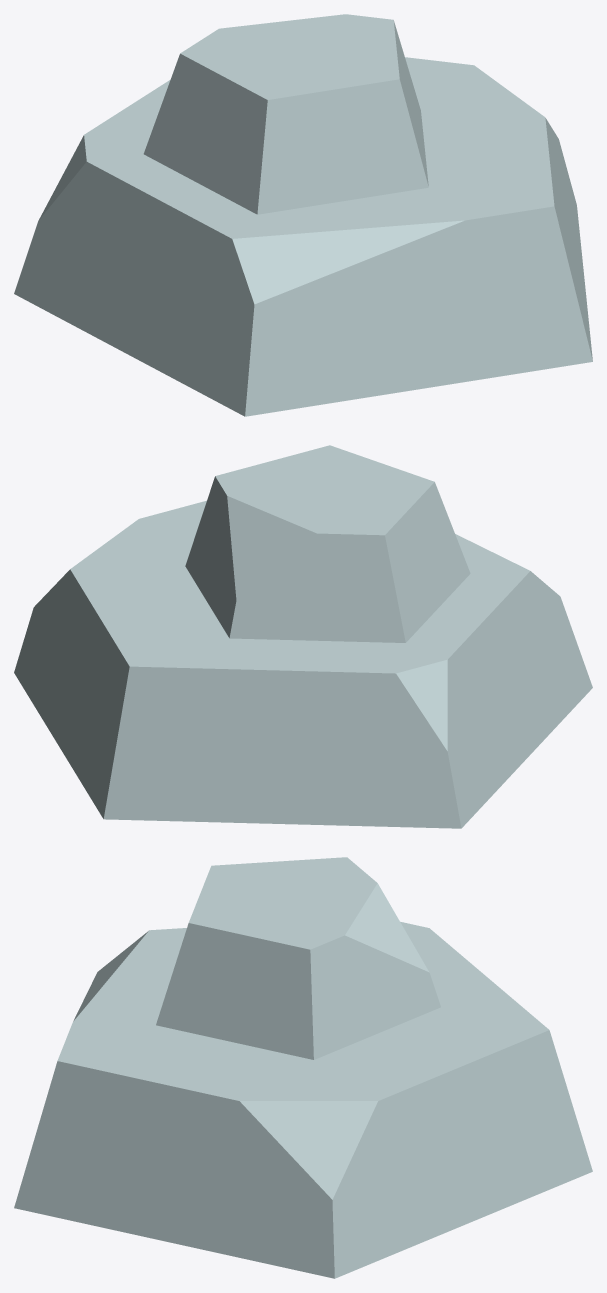
The model's file is stone_smallTopA.gltf.
3 views of the same model, one above another, from view 1: azimuth 30°, elevation 25°; view 2: azimuth 150°, elevation 25°; view 3: azimuth 270°, elevation 25° (orthographic). The views are drawn at different scales.
Parts seen in each view (by area): view 1: stone_smallTopA; view 2: stone_smallTopA; view 3: stone_smallTopA.
Boxes of the visible parts, left/top/right/bottom form: stone_smallTopA: left=14, top=14, right=592, bottom=416; stone_smallTopA: left=14, top=445, right=592, bottom=828; stone_smallTopA: left=14, top=857, right=592, bottom=1278.
Size of the model in its own units: 0.4877 by 0.22 by 0.4891.
